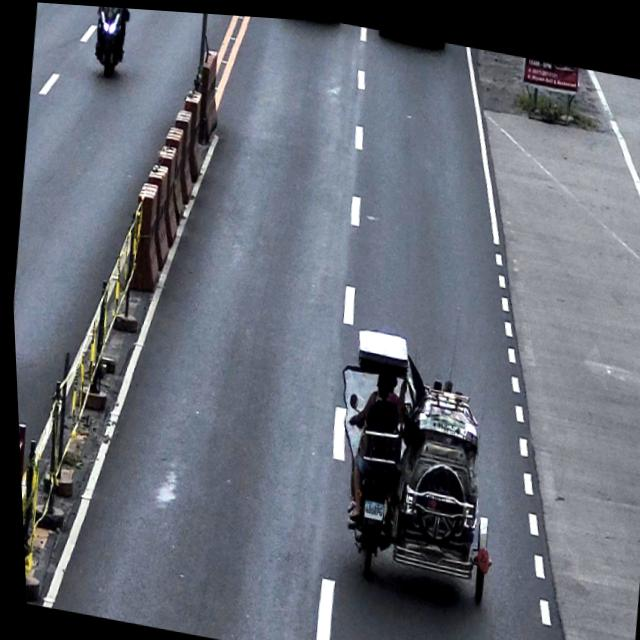License-Plate: (356, 492, 380, 517)
Motorcycle: (86, 5, 135, 80)
Tricycle: (313, 315, 514, 603)
